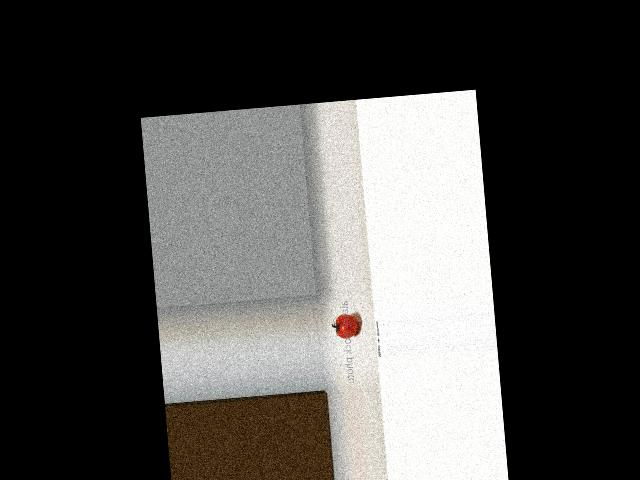tomato: (334, 313, 358, 339)
